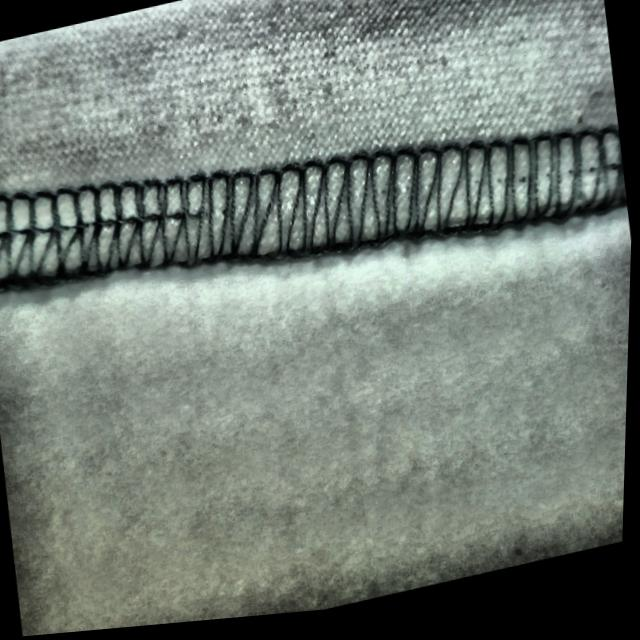Stitch: (0, 109, 364, 333)
